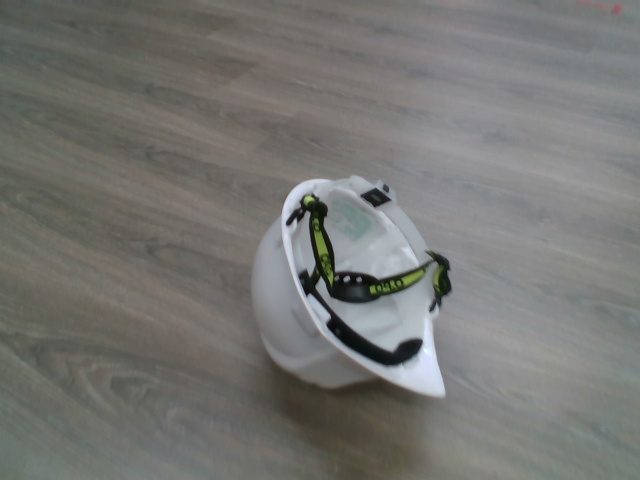helmet: (244, 168, 463, 405)
